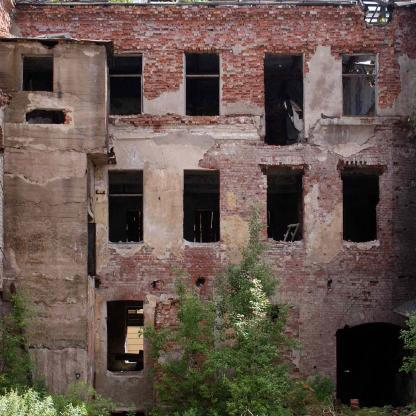Building Outline: (1, 0, 416, 416)
Dont: (137, 208, 335, 416), (0, 282, 122, 416)
Door Hole: (335, 322, 416, 413)
Facade: (1, 0, 416, 416)
Floor: (0, 0, 415, 142), (0, 150, 416, 245)
Floor Slab: (0, 143, 416, 150), (0, 245, 416, 252)
Ground Floor: (0, 252, 416, 415)
Window: (264, 52, 304, 143), (106, 300, 144, 376), (267, 167, 303, 241), (108, 170, 144, 244), (184, 170, 220, 243), (343, 167, 377, 241), (184, 52, 220, 117), (342, 53, 377, 116), (108, 53, 143, 115), (21, 53, 54, 92)
